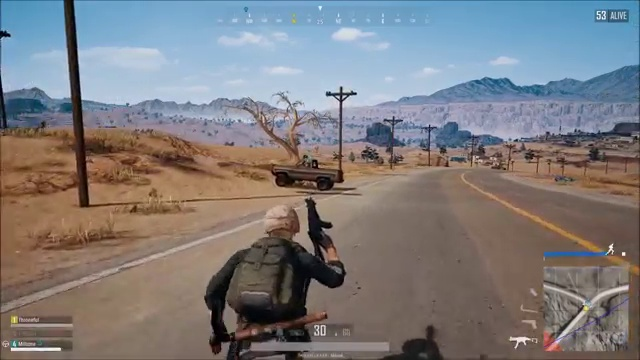Player: (174, 196, 391, 319)
